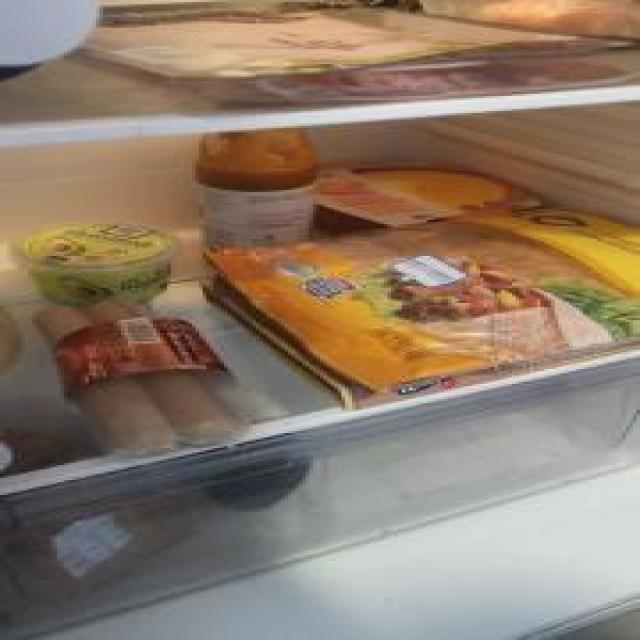guacamole: (9, 221, 187, 304)
sausage: (30, 296, 247, 458)
tortillas: (199, 205, 640, 392)
